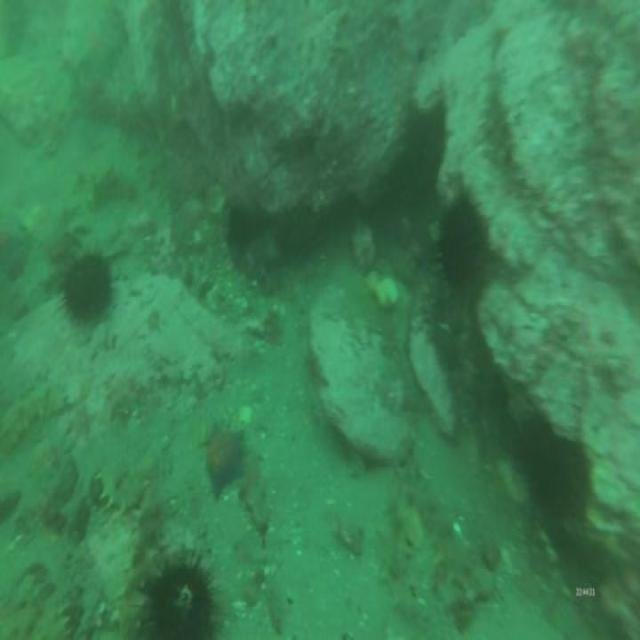echinus: (135, 540, 225, 640), (438, 188, 487, 303), (518, 411, 566, 513), (58, 250, 116, 332), (224, 201, 263, 259)
holothurian: (0, 377, 52, 461), (90, 441, 146, 518), (30, 596, 81, 640)
starfish: (200, 418, 251, 500)
